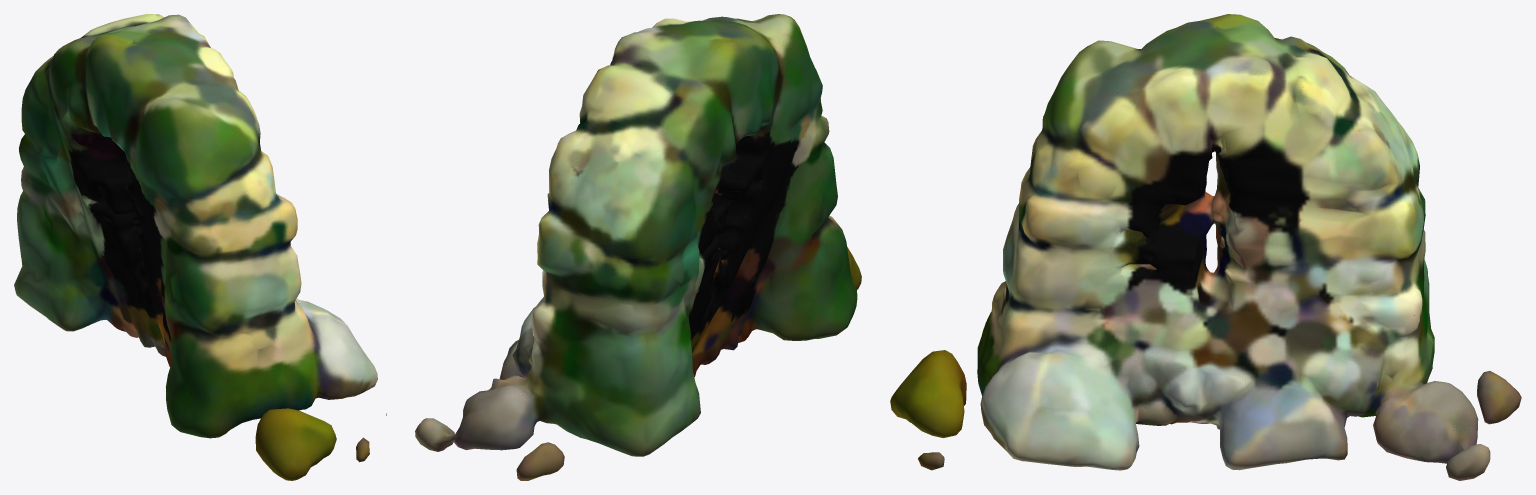
The picture shows the model from 3 angles, left to right: view 1: azimuth 30°, elevation 25°; view 2: azimuth 150°, elevation 25°; view 3: azimuth 270°, elevation 25°; orthographic projection. The views are drawn at different scales.
Visible parts, largest first — view 1: Mesh1; view 2: Mesh1; view 3: Mesh1.
Boxes of the visible parts, <box> form: Mesh1: <box>14,14,386,480</box>; Mesh1: <box>415,14,861,480</box>; Mesh1: <box>890,14,1521,480</box>.
Bounding box in the file's own units: 0.4901 × 0.8209 × 1.2.
1 material, 1 textured.
